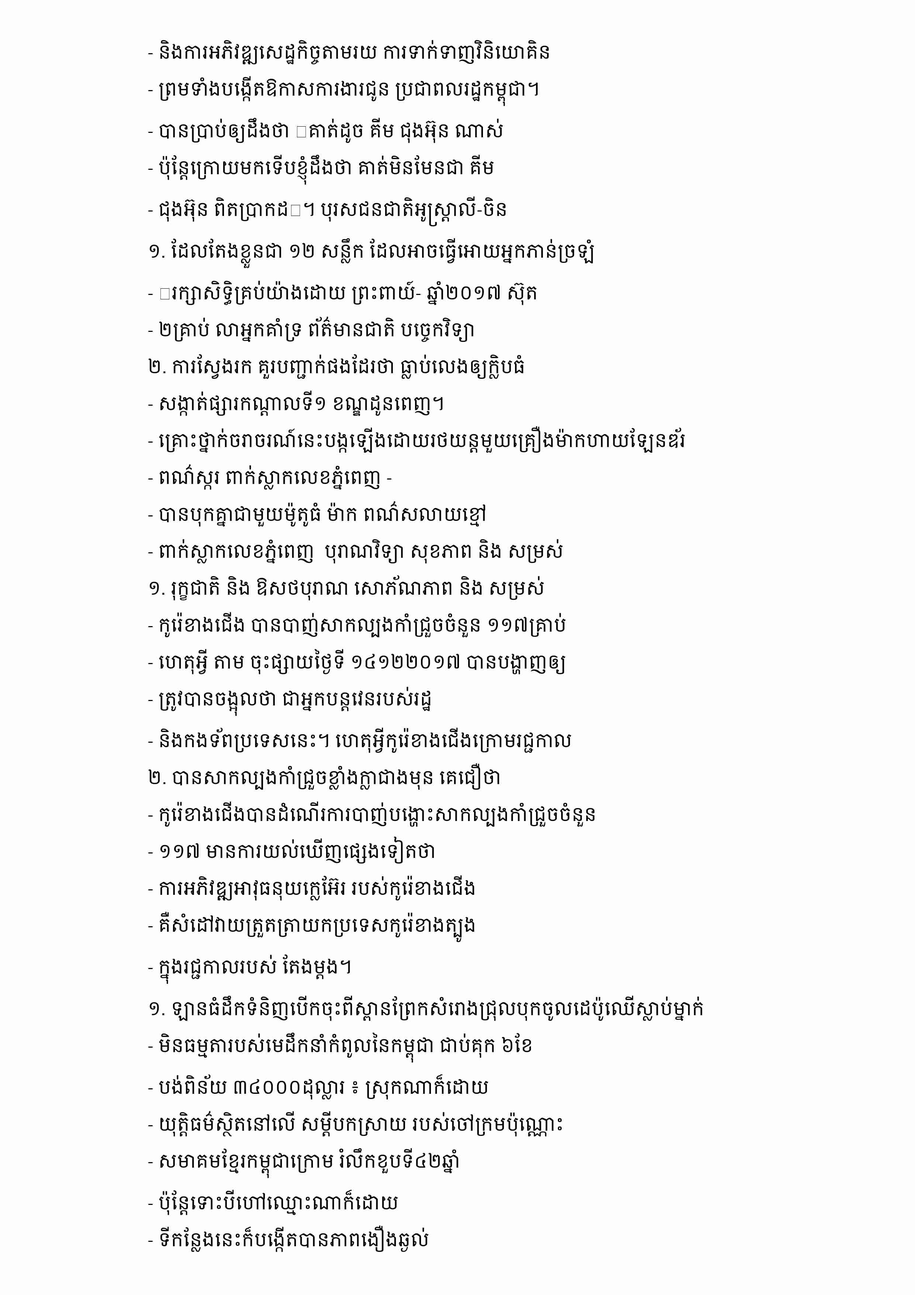text: (148, 426, 691, 453), (148, 996, 709, 1021), (148, 238, 600, 268), (148, 76, 545, 106), (148, 801, 602, 827), (148, 1033, 538, 1063), (148, 196, 512, 227), (148, 612, 572, 638), (148, 1111, 569, 1137), (148, 728, 577, 753), (148, 649, 571, 674), (148, 155, 500, 185), (148, 539, 569, 564), (148, 575, 550, 601), (148, 40, 556, 65), (148, 912, 481, 942), (148, 763, 506, 790), (148, 354, 530, 379), (148, 1148, 465, 1178), (148, 281, 543, 305), (148, 118, 509, 143), (148, 1074, 494, 1100), (148, 501, 492, 527), (148, 875, 481, 901), (148, 316, 480, 342), (148, 687, 437, 716), (148, 837, 441, 864), (148, 1225, 434, 1252), (148, 391, 450, 416), (148, 464, 397, 490), (148, 1190, 404, 1215), (148, 954, 357, 984)
